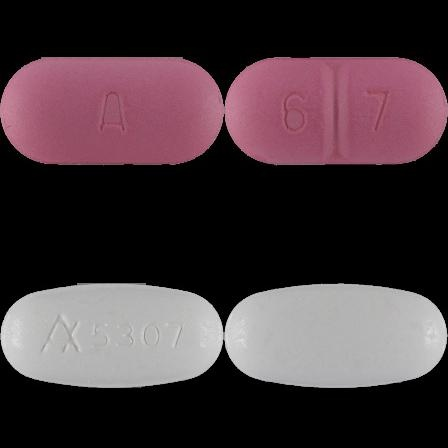68788-8977: (0, 0, 224, 224)
